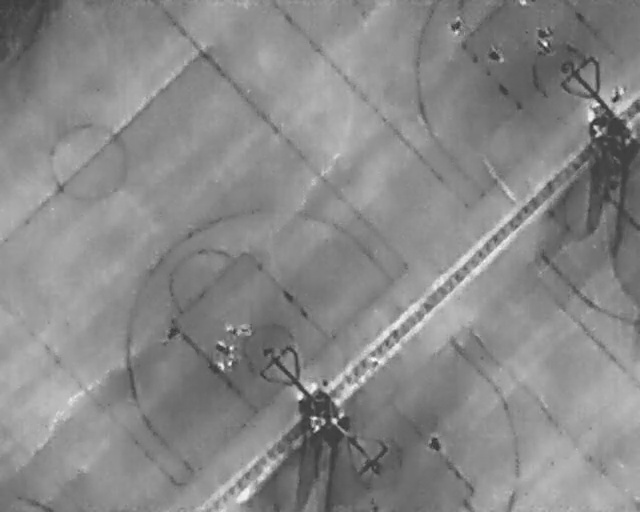Person: (603, 80, 630, 105), (482, 42, 508, 66), (164, 318, 184, 344), (211, 338, 238, 357), (224, 321, 254, 338), (588, 99, 609, 122), (209, 357, 234, 373), (536, 26, 553, 48), (428, 433, 443, 453), (451, 15, 463, 35)
